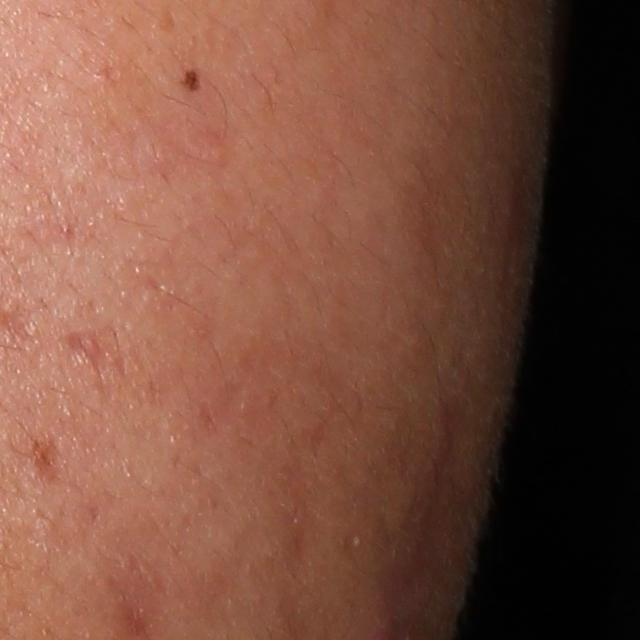atrophic_scar: (65, 324, 192, 426)
nevus: (179, 67, 201, 95)
